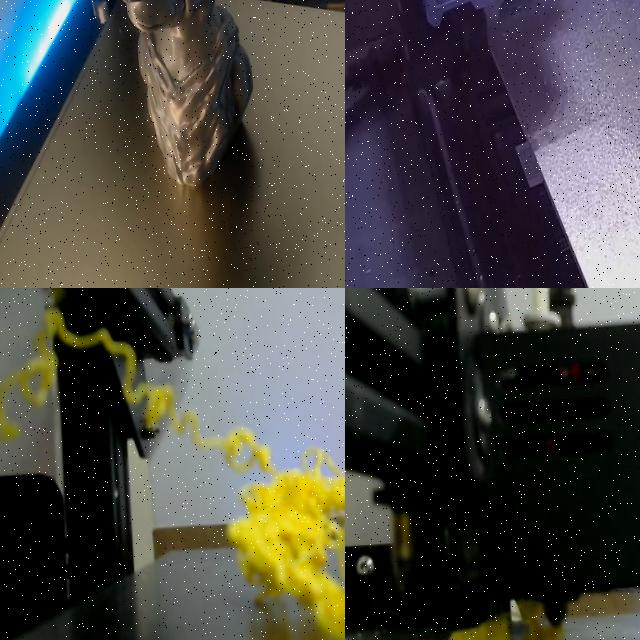spaghetti: (0, 304, 345, 640), (449, 599, 564, 640)
